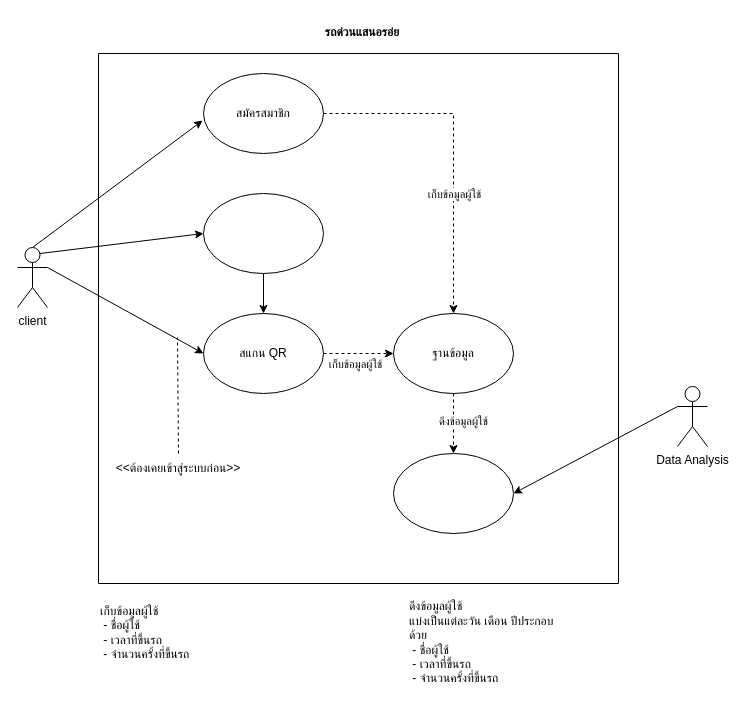
Image size: 746x702. Some labels were removed from this diagram. The centre of each missing label's shape, as x and y in pixels:
"ดูข้อมูลผ่าน Dashboard" belongs at point (453, 493).
"เข้าสู่ระบบ" belongs at point (263, 233).
